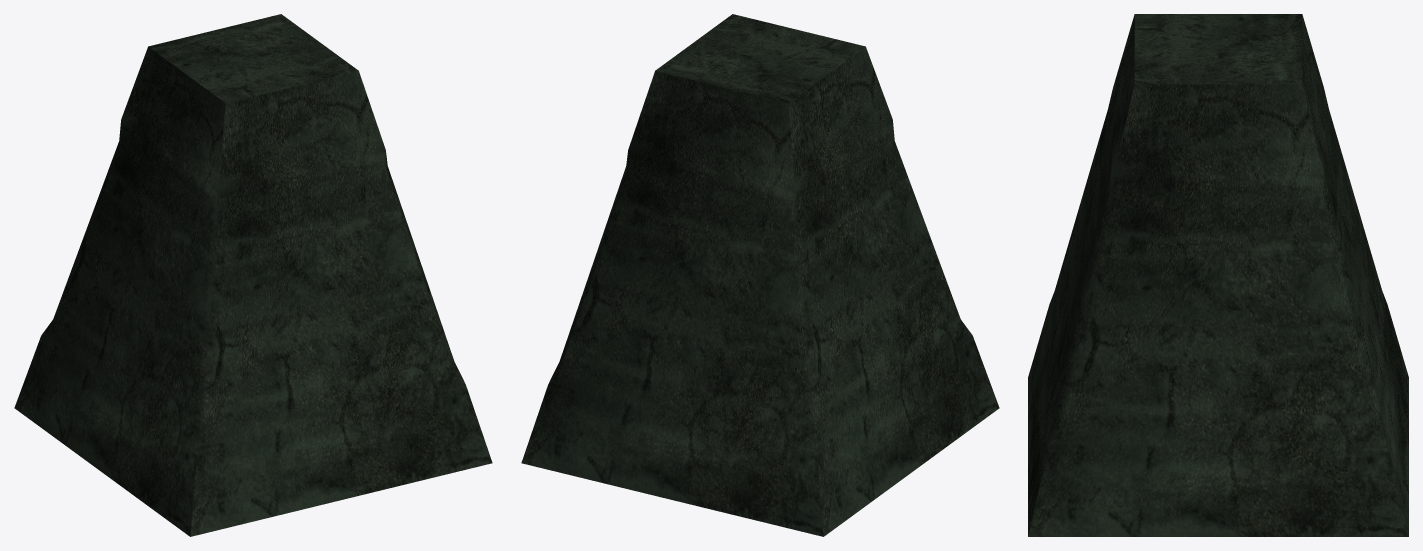
The picture shows the model from 3 angles, left to right: view 1: azimuth 30°, elevation 25°; view 2: azimuth 150°, elevation 25°; view 3: azimuth 270°, elevation 25°; orthographic projection. The views are drawn at different scales.
Parts seen in each view (by area): view 1: obelsik; view 2: obelsik; view 3: obelsik.
Boxes of the visible parts, left/top/right/bottom form: obelsik: left=14, top=14, right=492, bottom=536; obelsik: left=521, top=14, right=999, bottom=536; obelsik: left=1028, top=14, right=1408, bottom=536.
Bounding box in the file's own units: 8288 × 9878 × 8357.
1 material, 1 textured.
